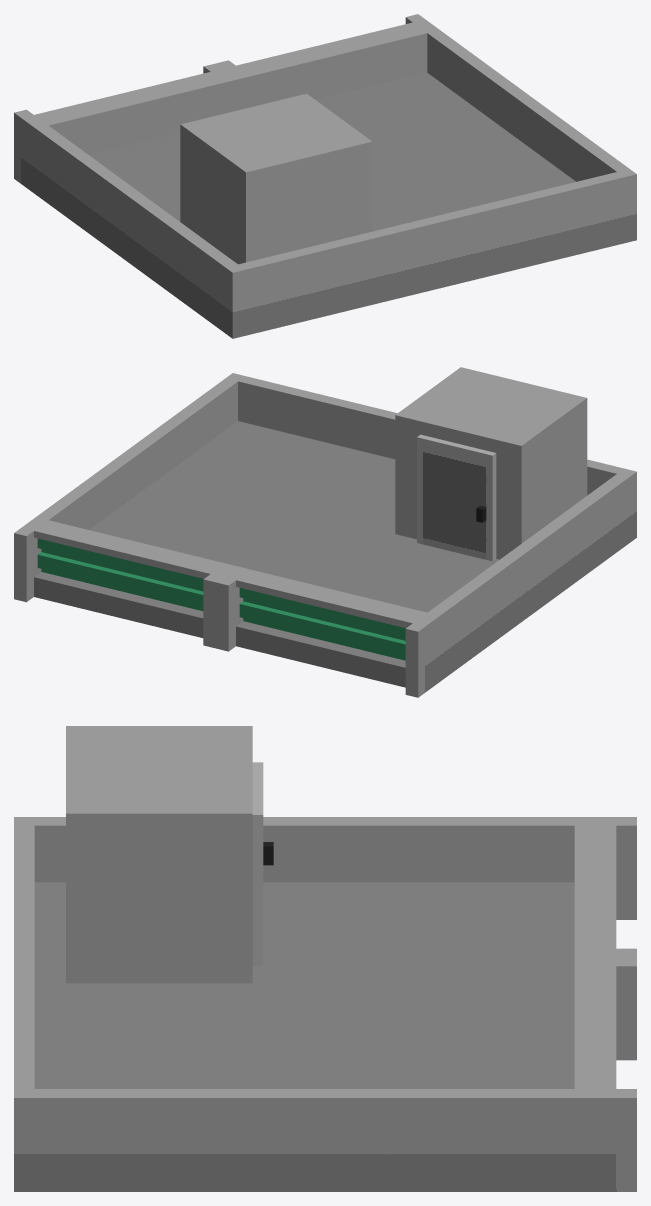
Rendered from obj_story04c.fbx.
3 views of the same model, one above another, from view 1: azimuth 30°, elevation 25°; view 2: azimuth 150°, elevation 25°; view 3: azimuth 270°, elevation 25° (orthographic). The views are drawn at different scales.
Visible parts, largest first — view 1: obj_story04c; view 2: obj_story04c; view 3: obj_story04c.
Part boxes in pixels (left/top/right/bottom): obj_story04c: left=14, top=14, right=636, bottom=338; obj_story04c: left=14, top=367, right=636, bottom=697; obj_story04c: left=14, top=726, right=636, bottom=1191.
Bounding box in the file's own units: 6.4 × 6 × 2.2.
Materials: 1 (1 with a texture image).
